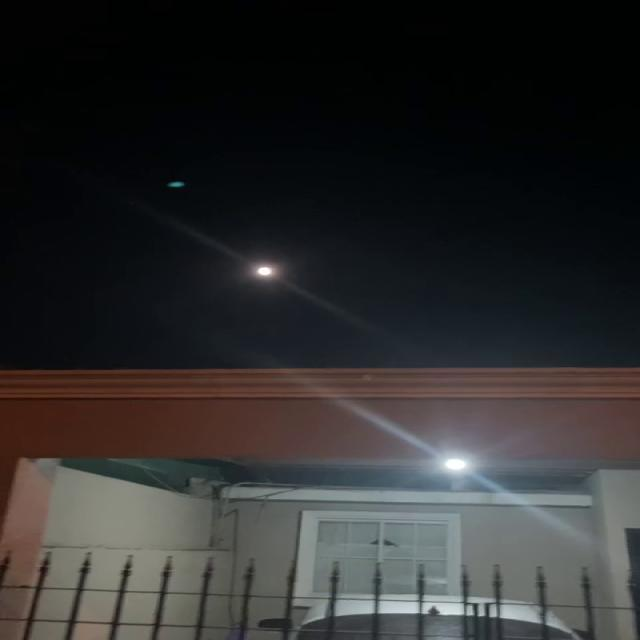moon: (246, 263, 276, 284)
